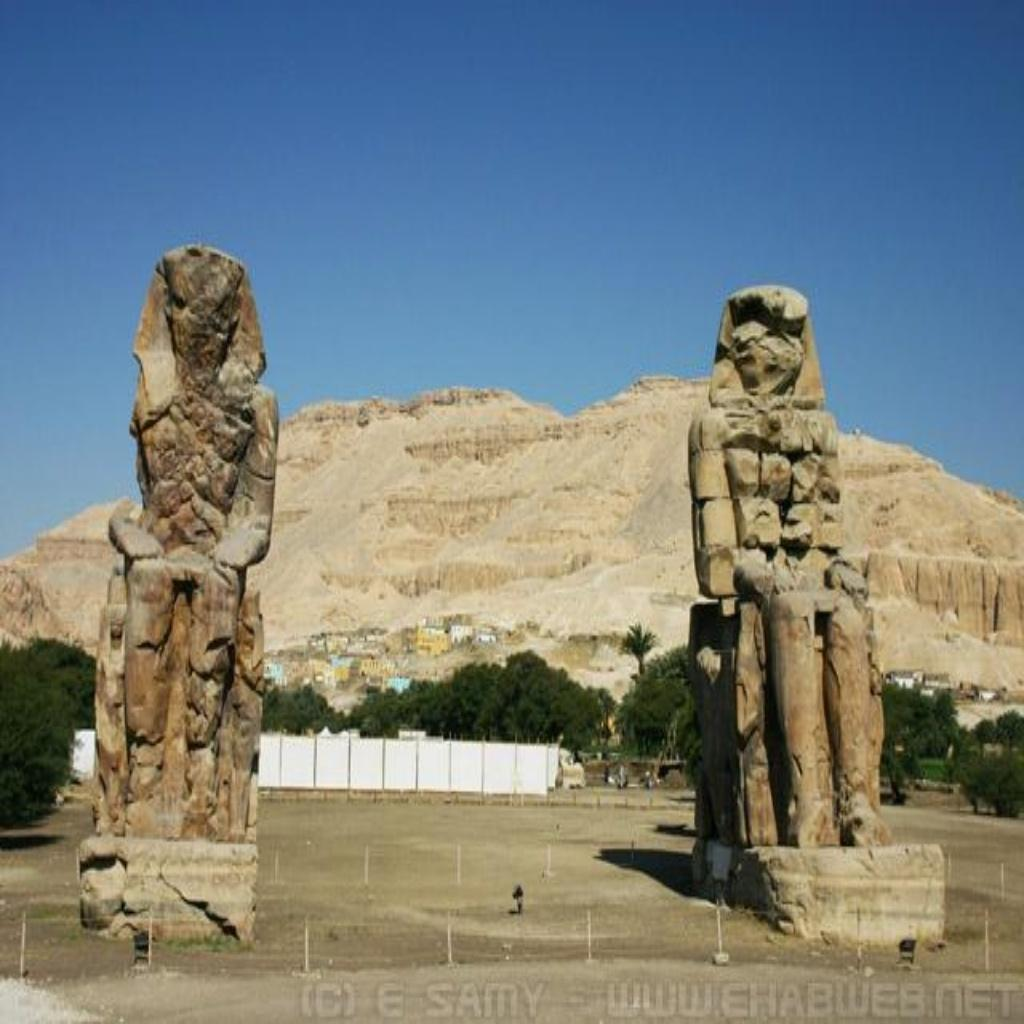Colossoi of Memnon: (678, 278, 948, 947), (74, 238, 282, 948)
